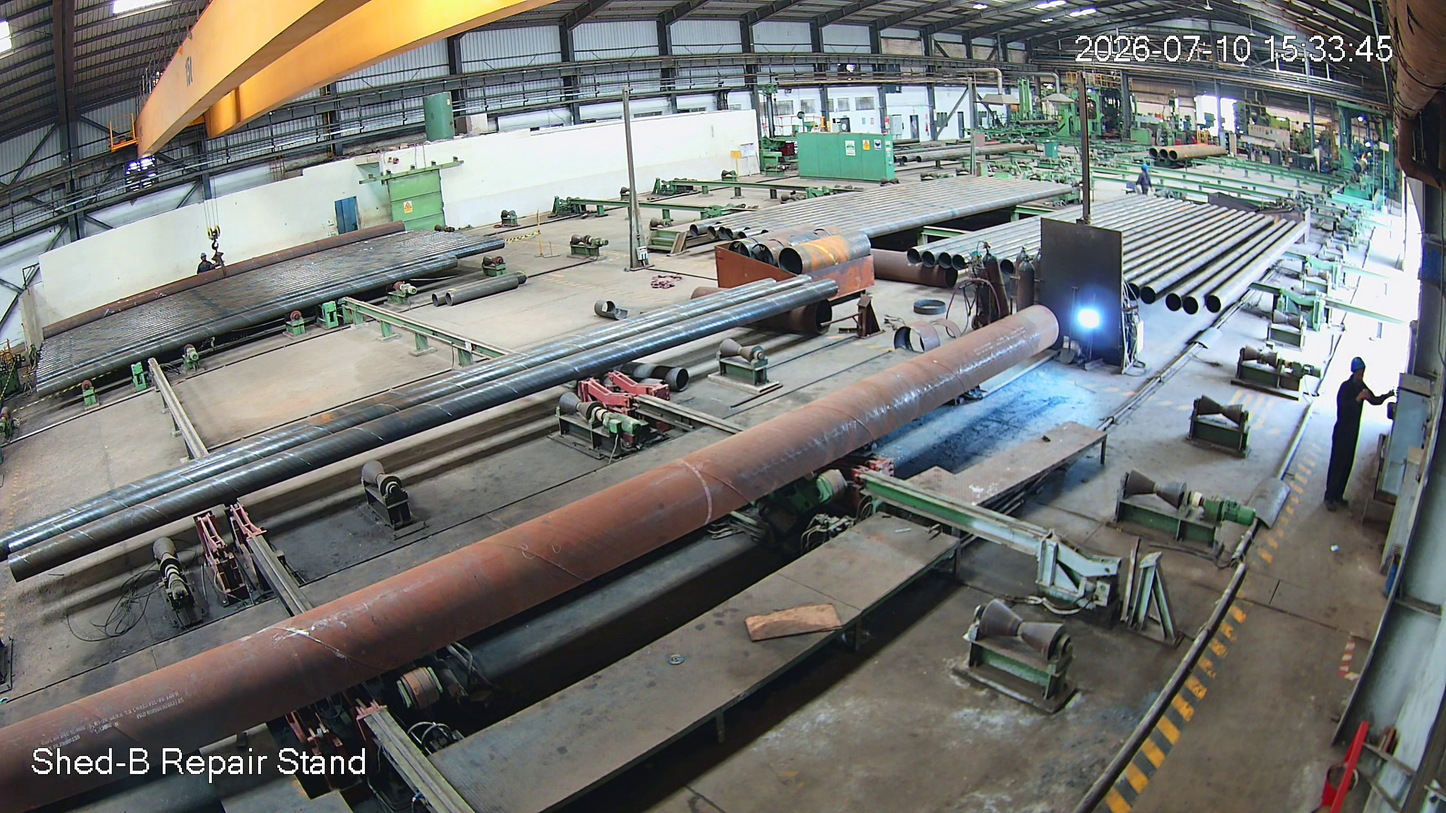Helmet: (1348, 346, 1378, 404)
Person: (1323, 354, 1390, 514)
